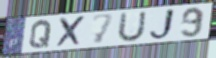7: (90, 13, 115, 46)
9: (180, 6, 206, 38)
J: (148, 7, 177, 41)
Q: (28, 19, 54, 49)
U: (115, 9, 148, 44)
X: (55, 15, 88, 49)
